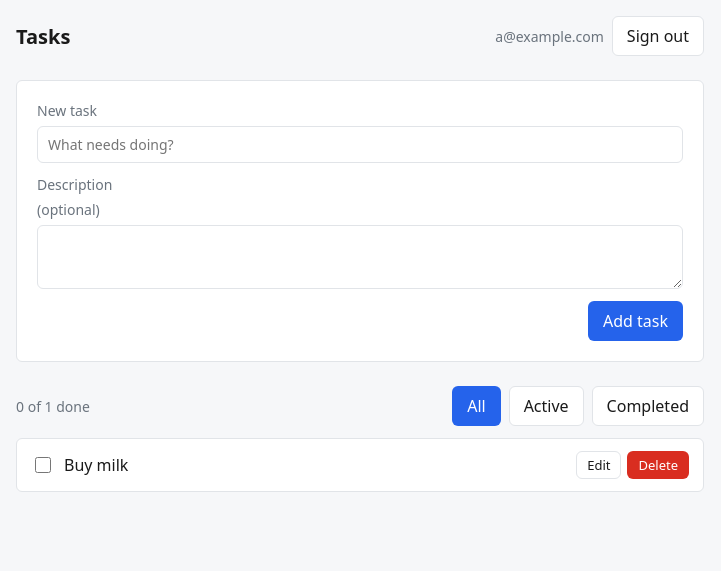
TodosPage › renders list, creates a new todo, and shows it after invalidation
Expected: the text "Buy milk" is shown, [64,454,128,476]
In the field named "new task title": (360, 144) [37,126,683,163], type "Walk dog"
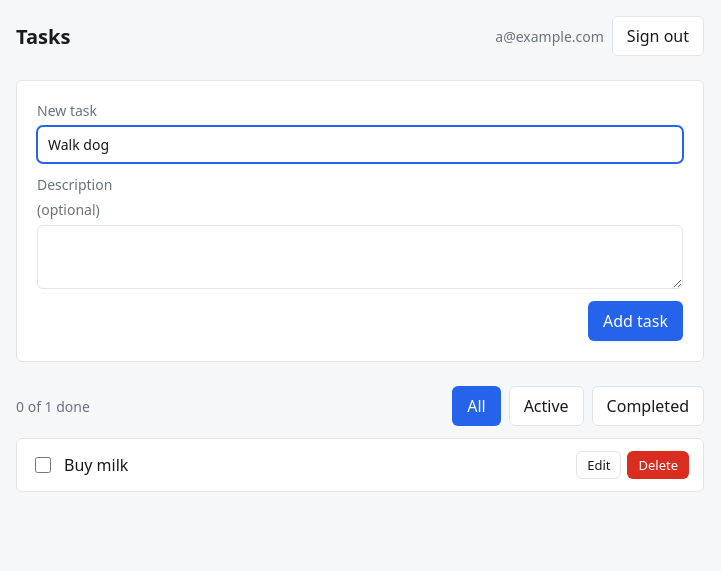
Click the button "Add task": (636, 321) [588,301,683,341]
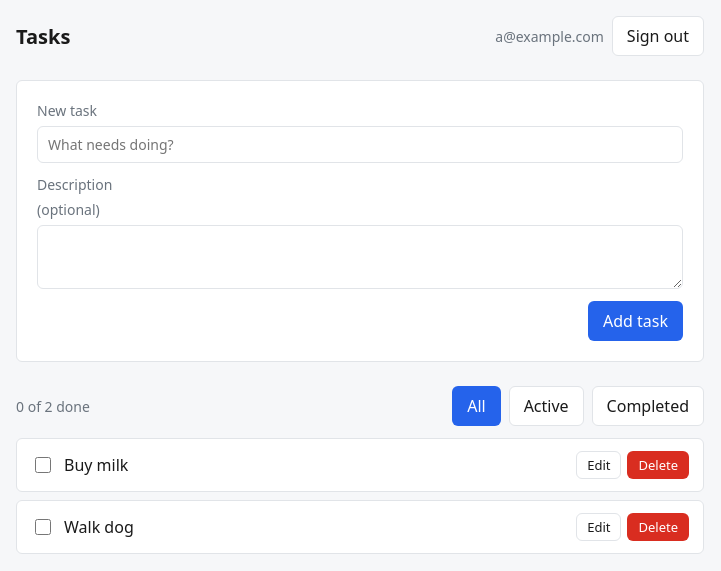
Expected: the text "Walk dog" is shown, [64,516,134,538]
